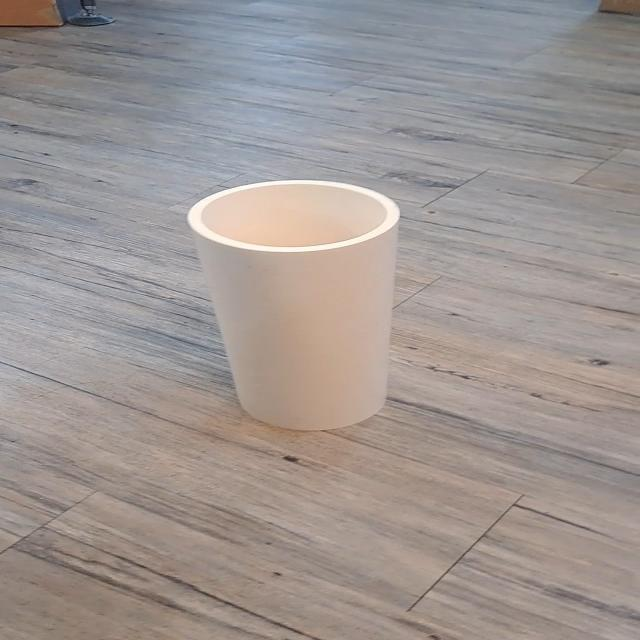CORAL: (134, 167, 468, 468)
